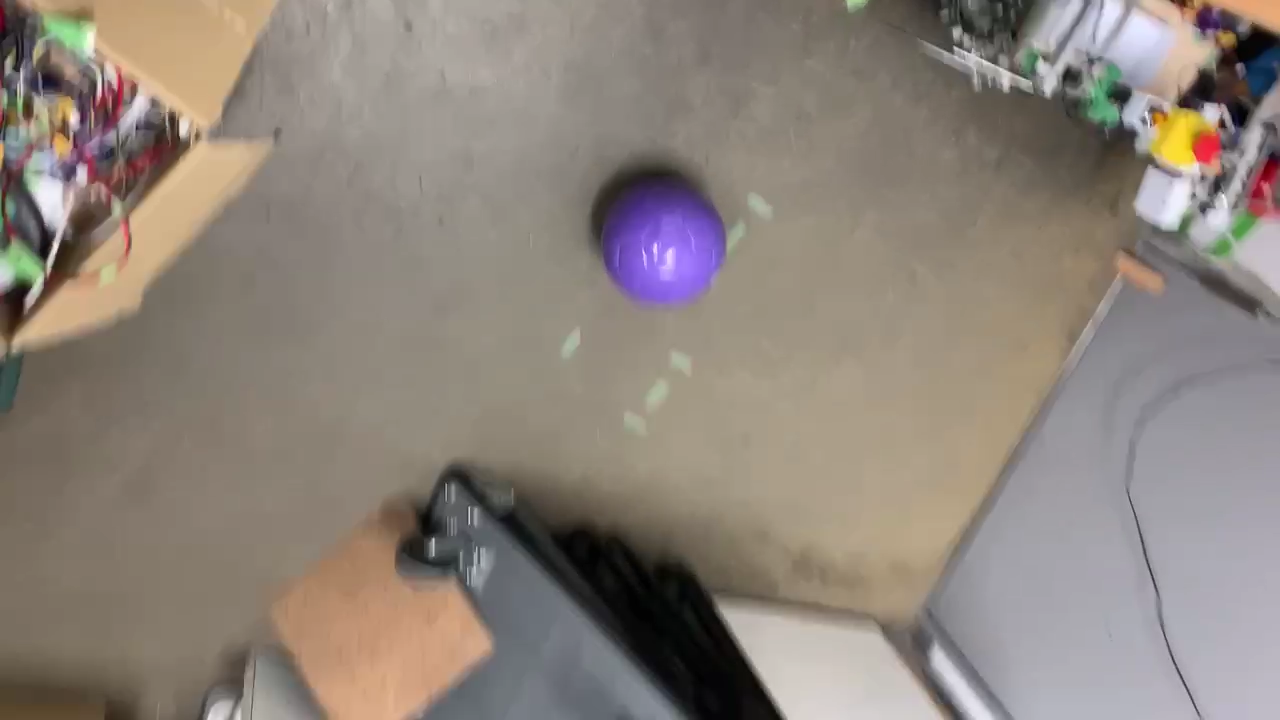purple: (600, 186, 724, 302)
